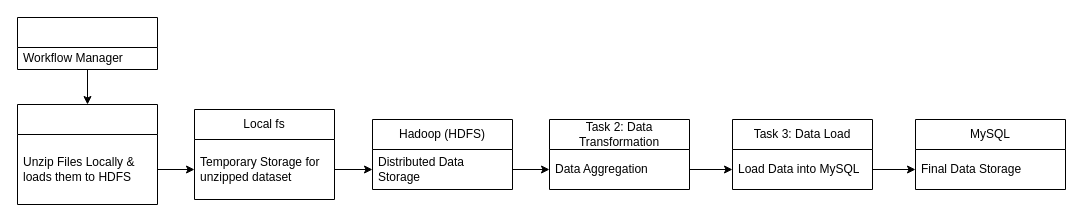
The diagram is 1083 pixels wide and 222 high, and some of its shapes have lost their labels. Each missing label, with the box of its shape:
Apache Airflow: (16, 16, 158, 70)
Task 1: Data Extraction: (16, 104, 158, 204)
